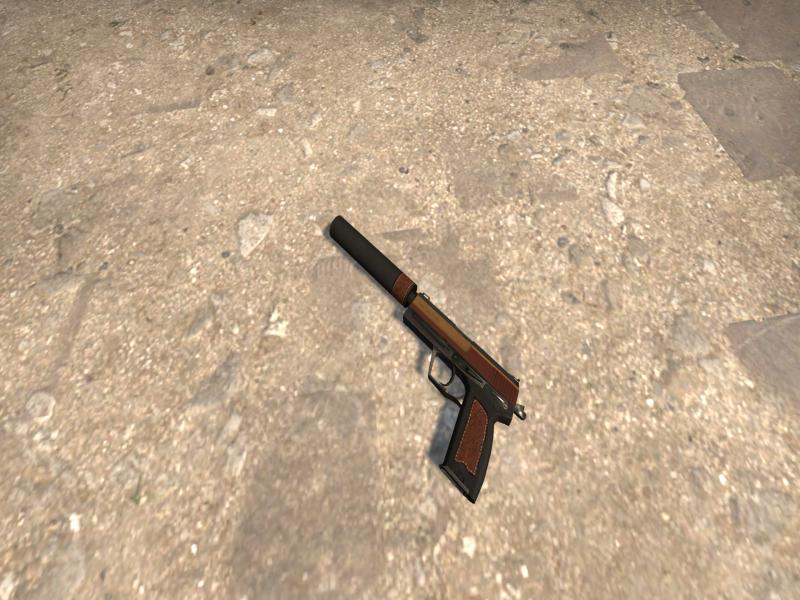USP: (330, 216, 526, 503)
